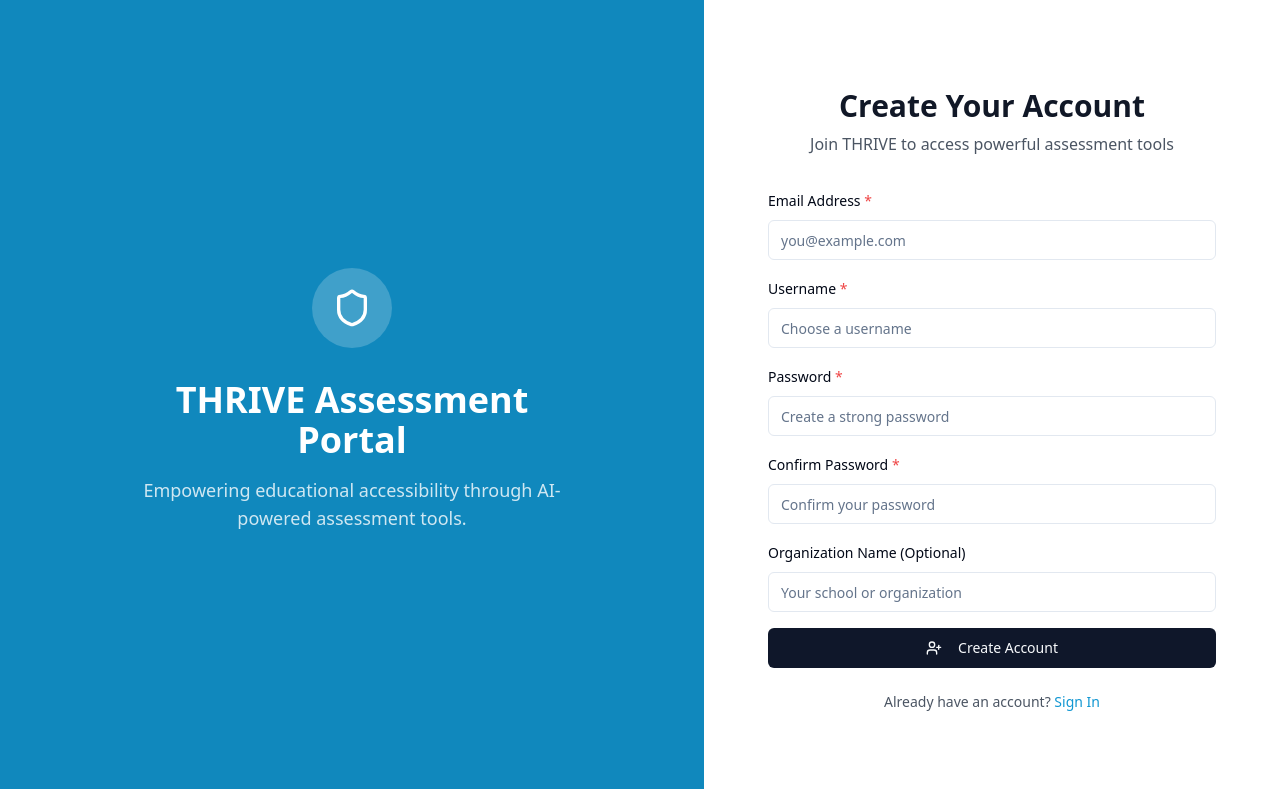
Test case: Registration Components › RegistrationPage › shows loading state during form submission
The image size is (1280, 789).
In the field with test id "input-email": (992, 240) x1=768 y1=220 x2=1216 y2=260, type "test@example.com"
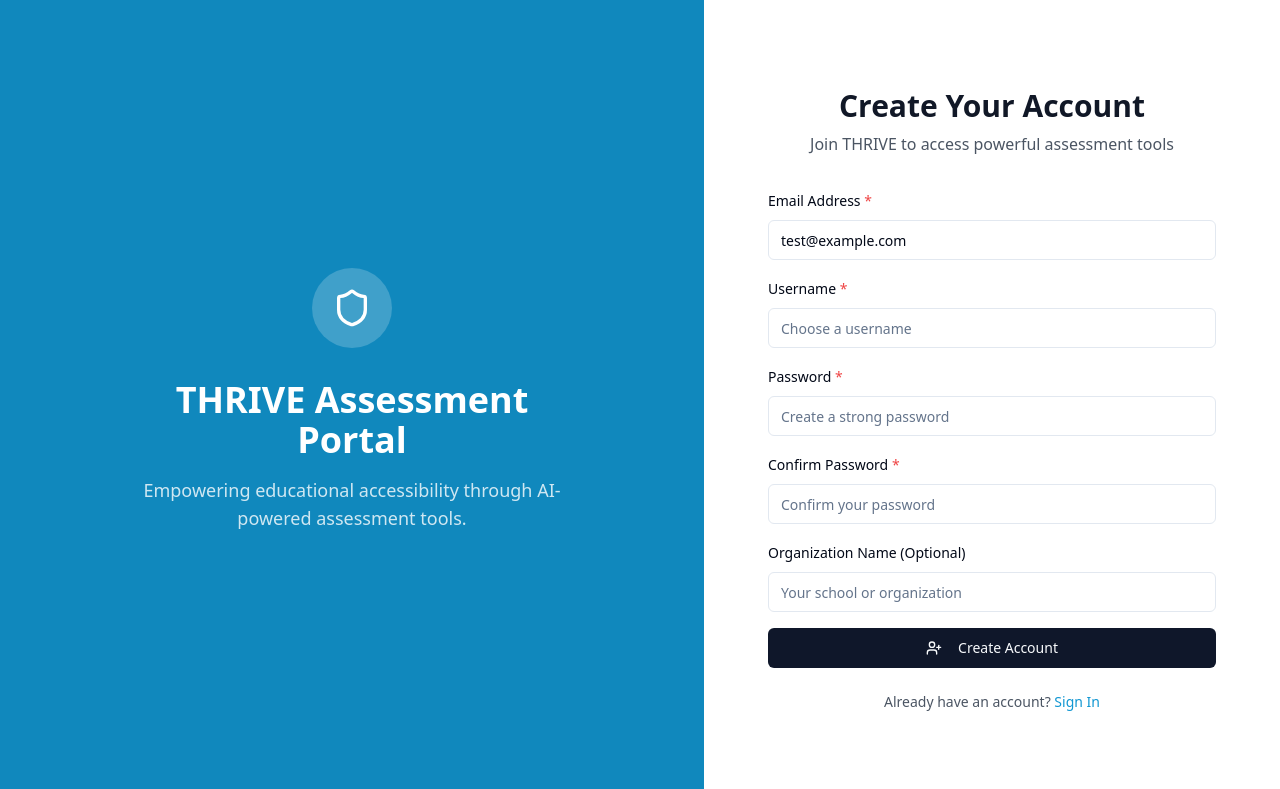
In the field with test id "input-username": (992, 328) x1=768 y1=308 x2=1216 y2=348, type "testuser"
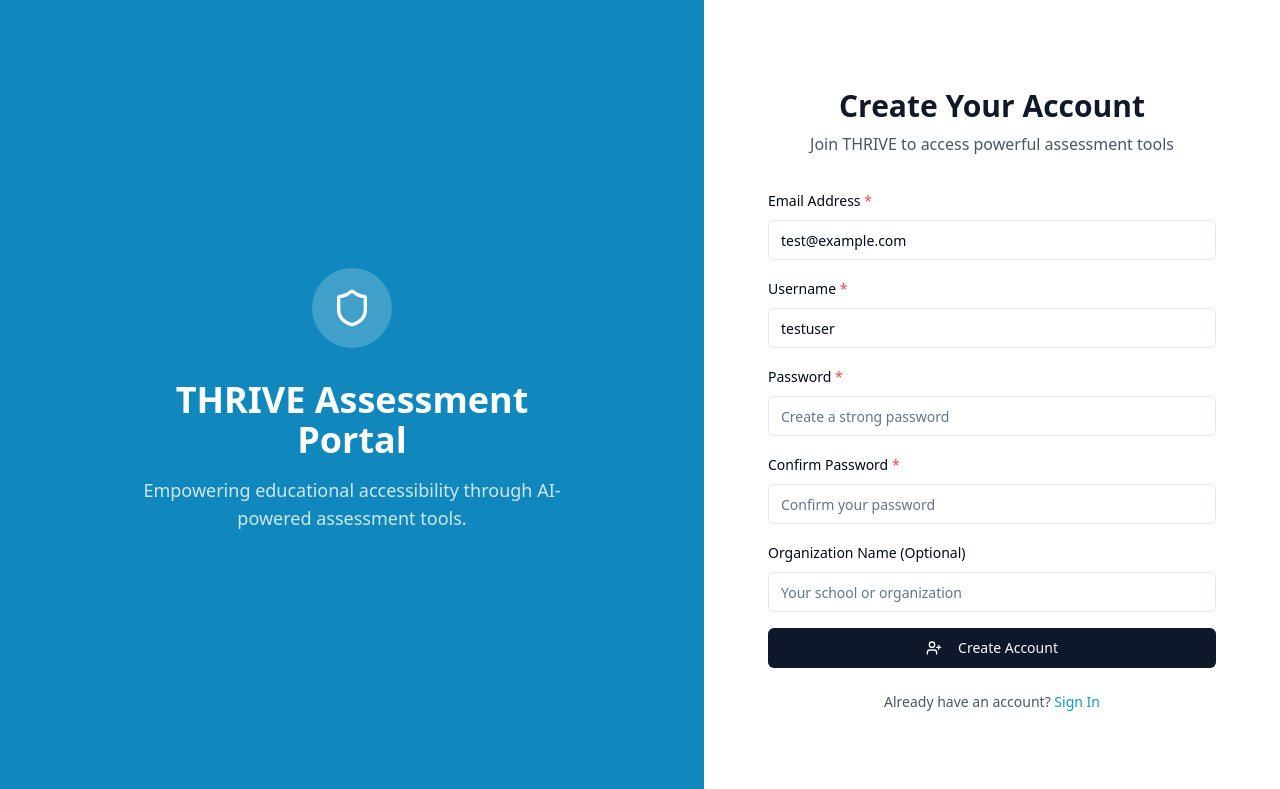
In the password field with test id "input-password": (992, 416) x1=768 y1=396 x2=1216 y2=436, type "Test123!@#"
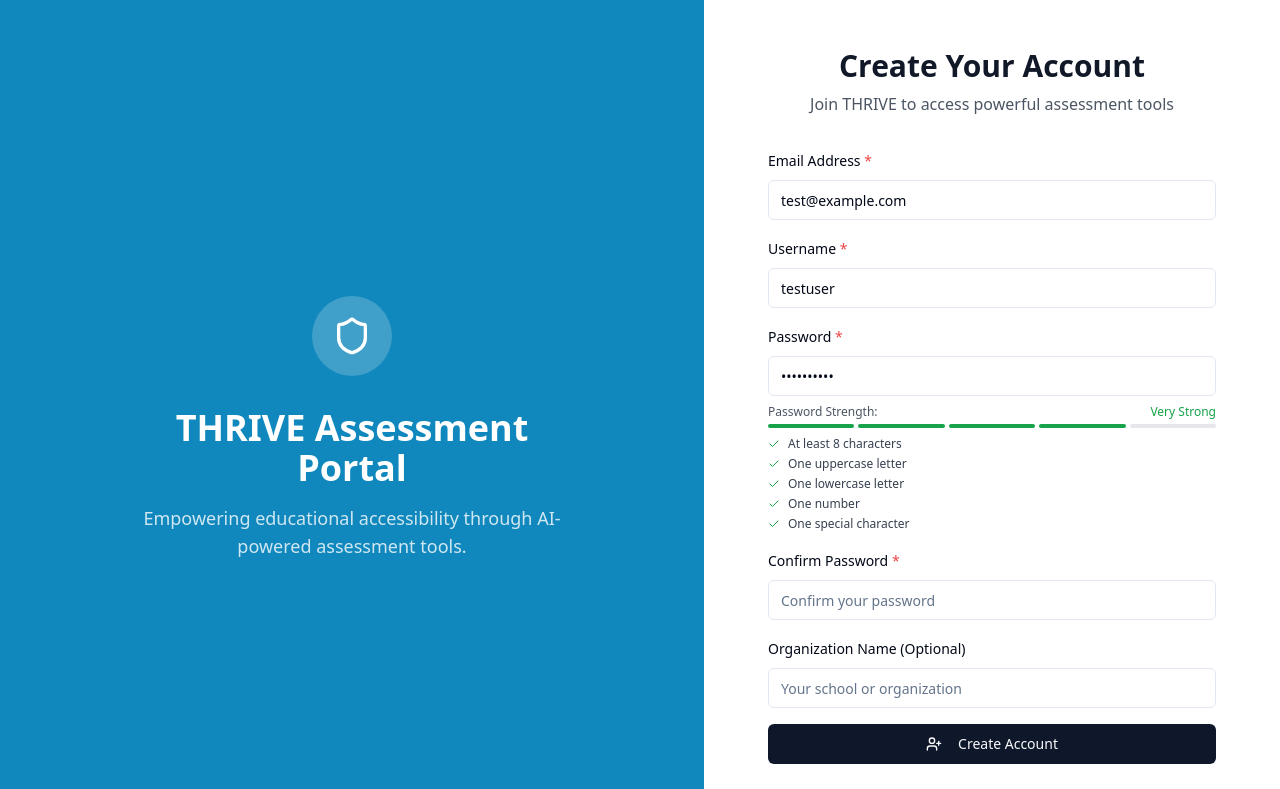
In the password field with test id "input-confirm-password": (992, 600) x1=768 y1=580 x2=1216 y2=620, type "Test123!@#"
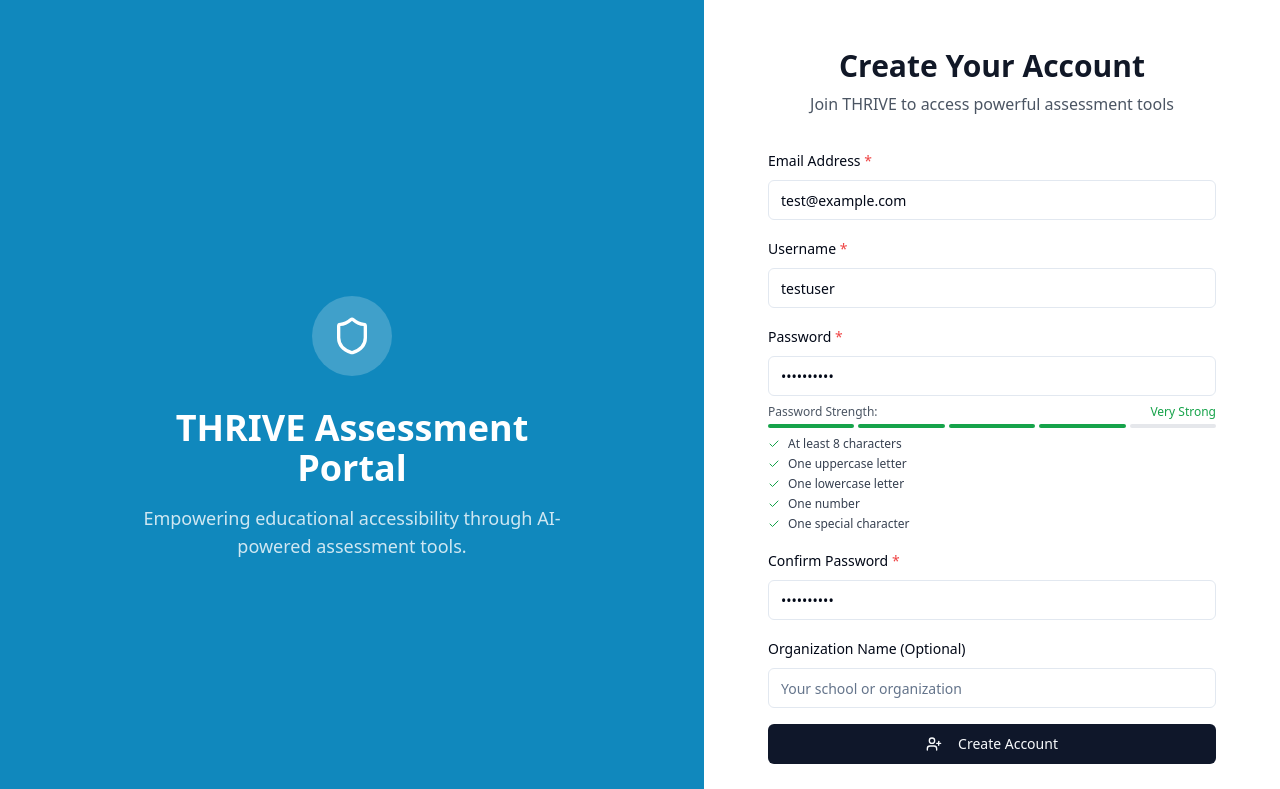
Click the button with test id "button-create-account": (992, 744) x1=768 y1=724 x2=1216 y2=764
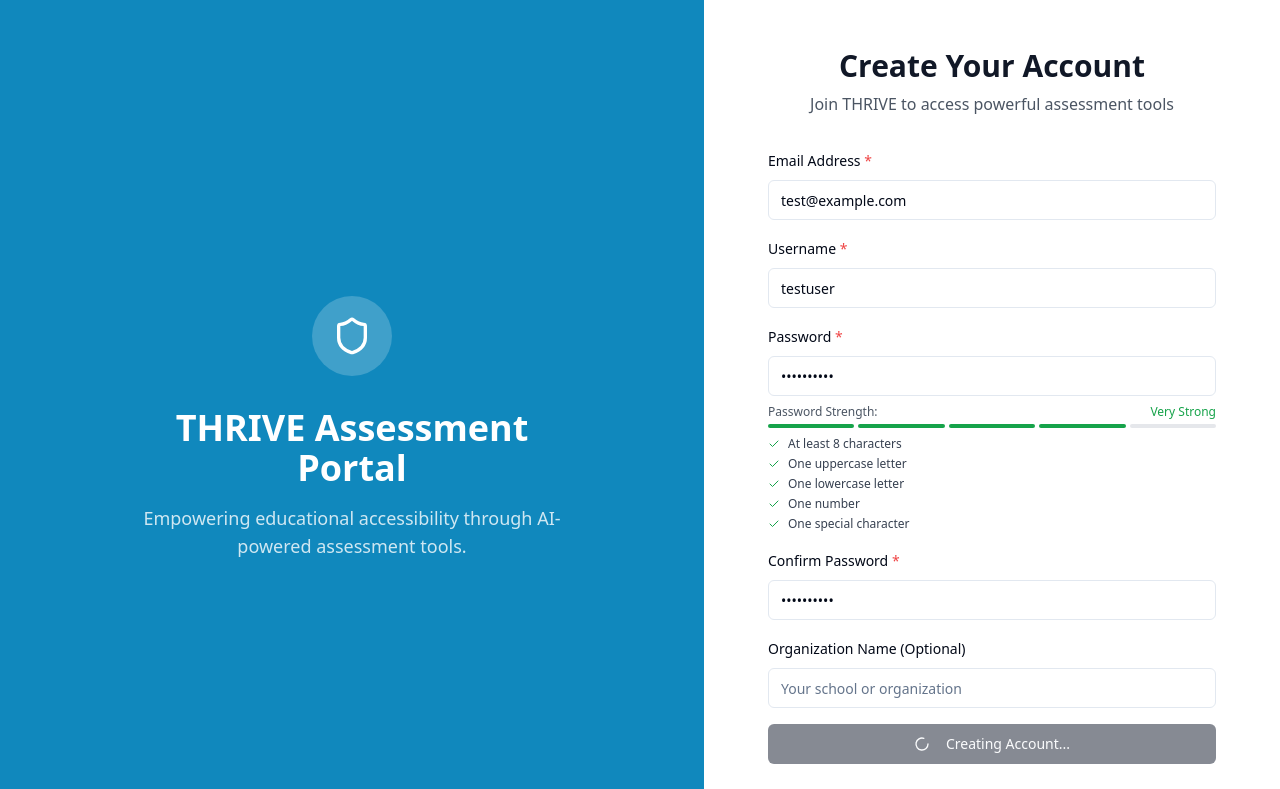
Result: the button "Creating Account..." is disabled at x1=768 y1=724 x2=1216 y2=764
